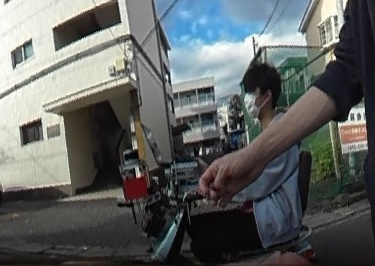person: (184, 64, 298, 266)
